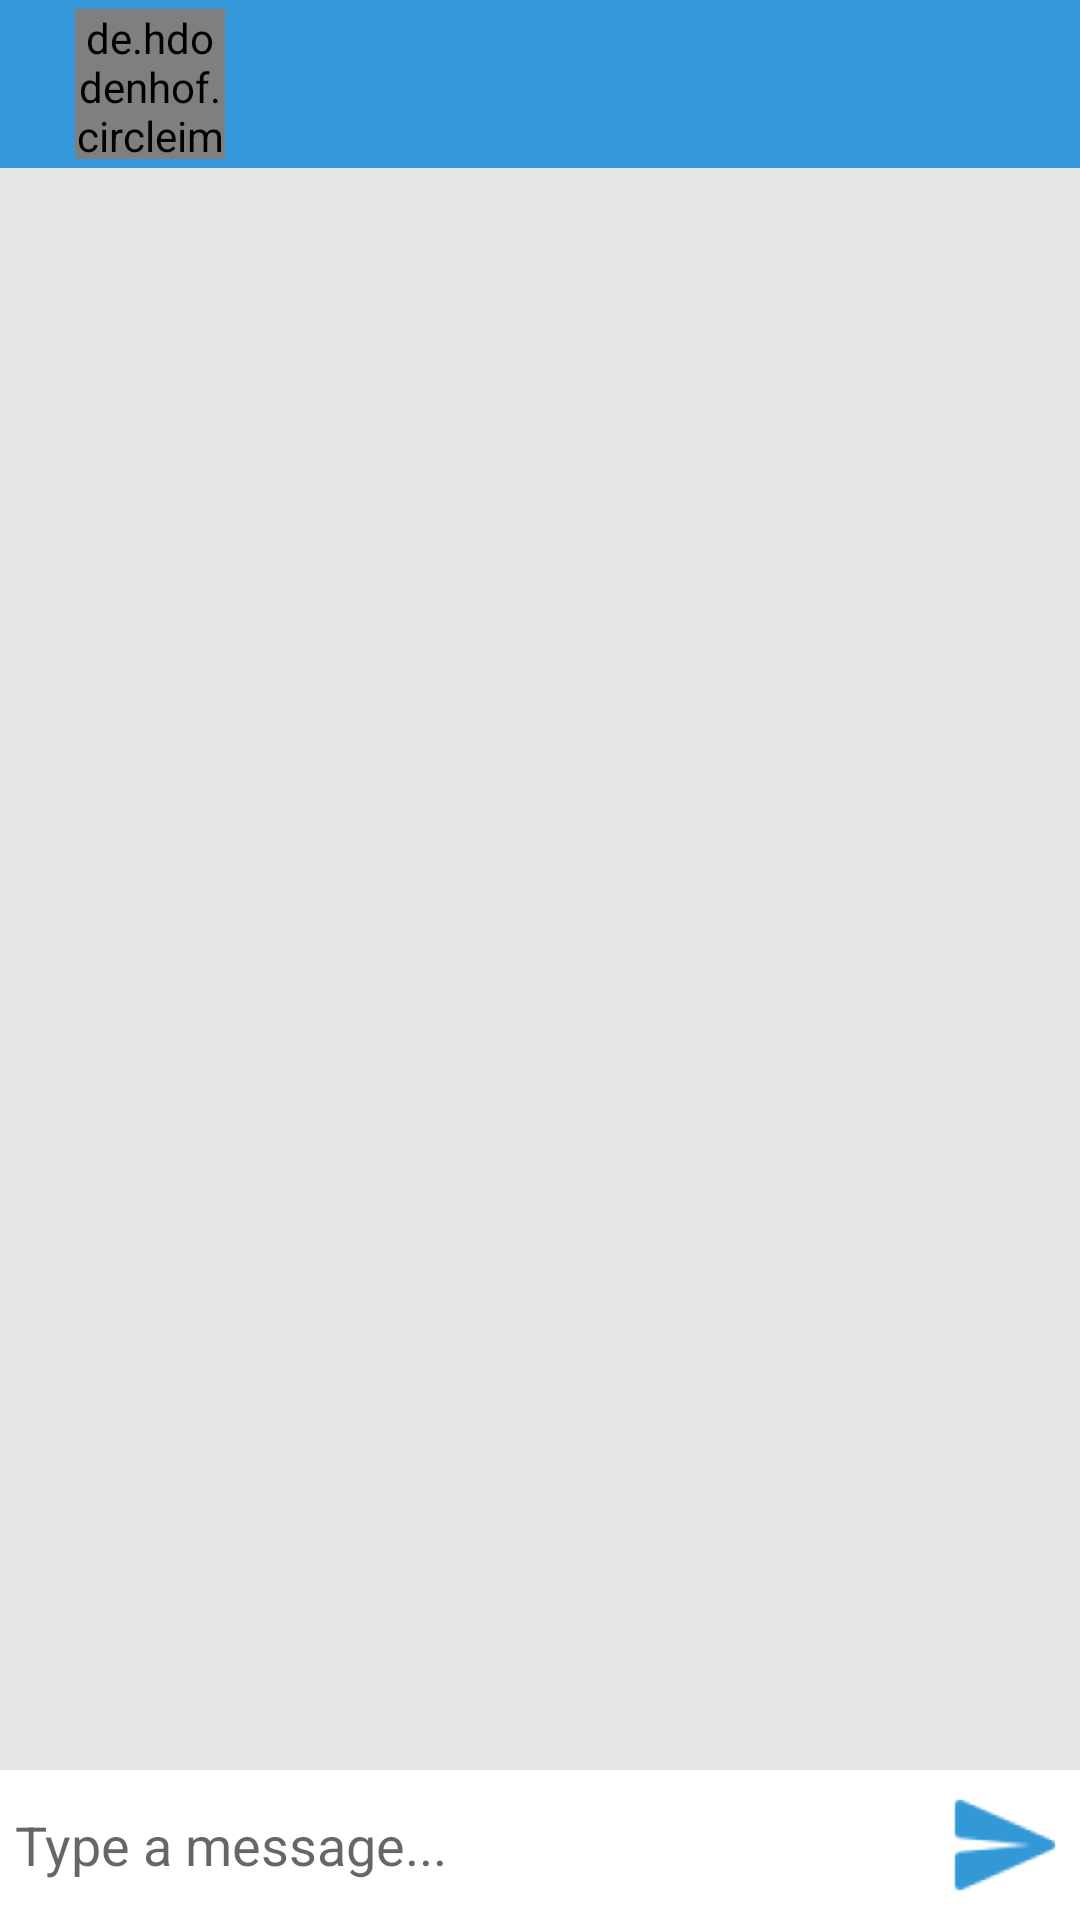

Icons on this 1080w x 1920h Android screen, each with its box as [x1,y1,x2,y2]:
send: [954,1799,1056,1891]
